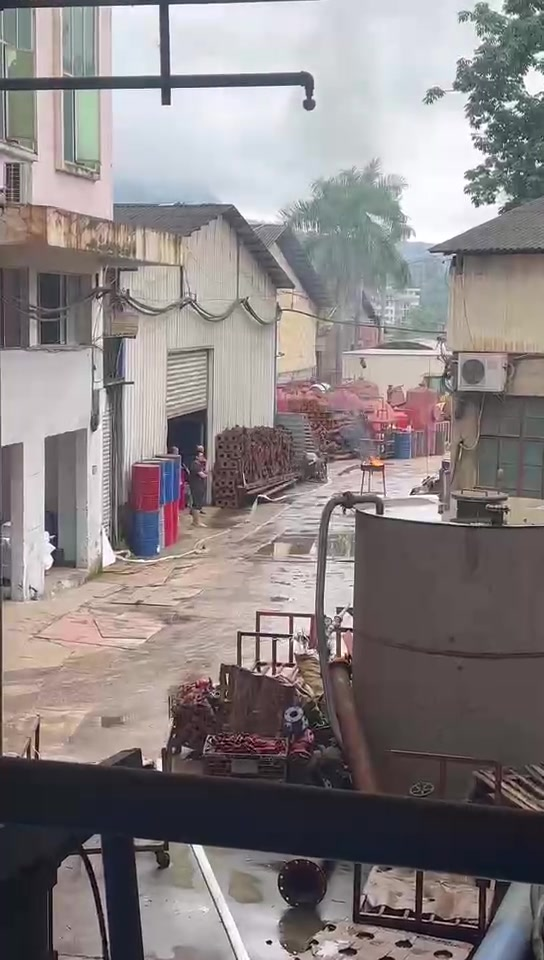fire: (362, 455, 383, 466)
